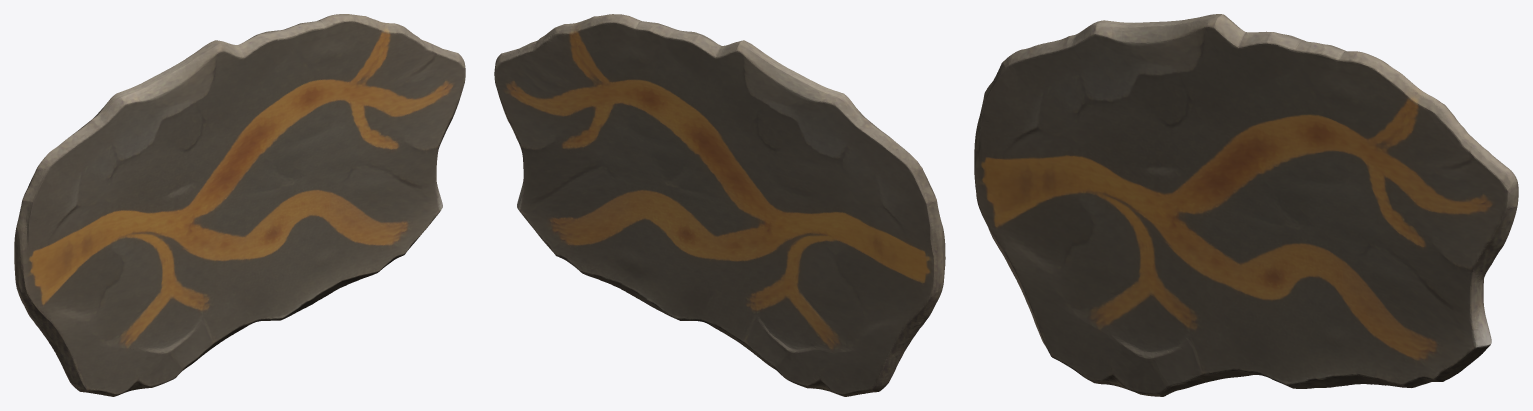
The picture shows the model from 3 angles, left to right: view 1: azimuth 30°, elevation 25°; view 2: azimuth 150°, elevation 25°; view 3: azimuth 330°, elevation 25°; orthographic projection. The views are drawn at different scales.
Visible parts, largest first — view 1: world; view 2: world; view 3: world.
Boxes of the visible parts, bbox=[...] form: world: bbox=[14, 14, 465, 396]; world: bbox=[494, 14, 945, 396]; world: bbox=[974, 14, 1518, 396].
Bounding box in the file's own units: 1 × 0.7059 × 0.0455.
Materials: 1 (1 with a texture image).
